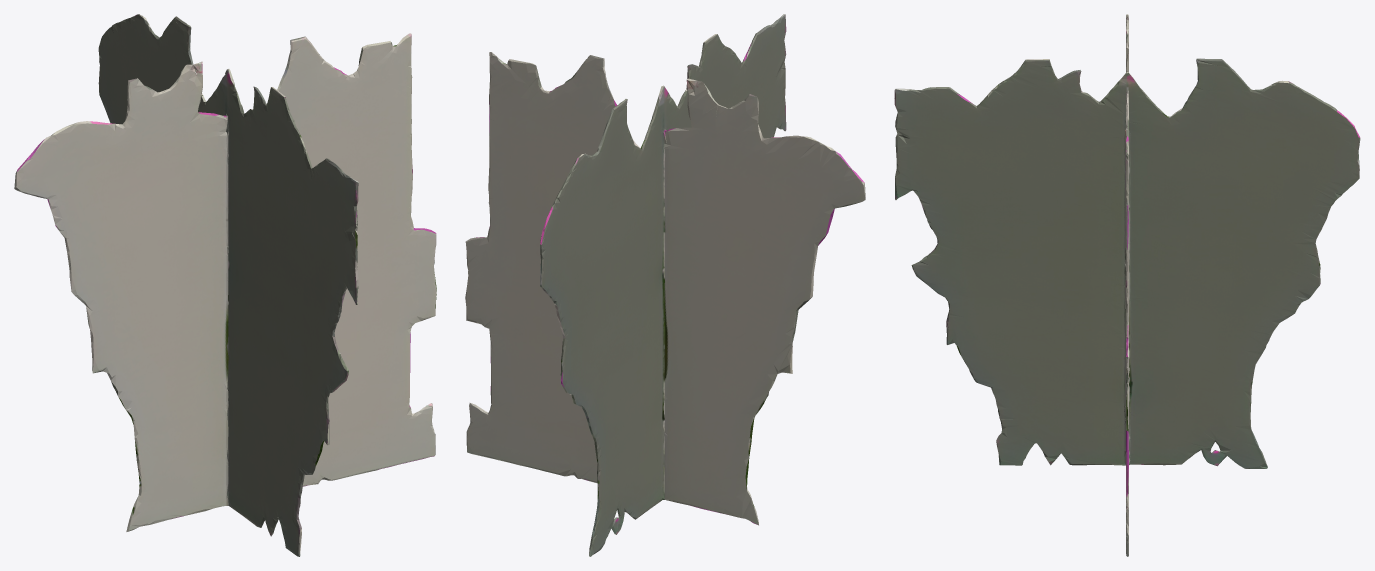
The model's file is hunyuan3d_textured.obj.
The picture shows the model from 3 angles, left to right: view 1: azimuth 30°, elevation 25°; view 2: azimuth 150°, elevation 25°; view 3: azimuth 270°, elevation 25°; orthographic projection. The views are drawn at different scales.
Visible parts, largest first — view 1: hunyuan3d_textured; view 2: hunyuan3d_textured; view 3: hunyuan3d_textured.
Part boxes in pixels (left/top/right/bottom): hunyuan3d_textured: left=14, top=14, right=436, bottom=556; hunyuan3d_textured: left=465, top=14, right=865, bottom=556; hunyuan3d_textured: left=894, top=14, right=1360, bottom=556.
Size of the model in its own units: 1.88 by 1.94 by 2.
1 material, 1 textured.
